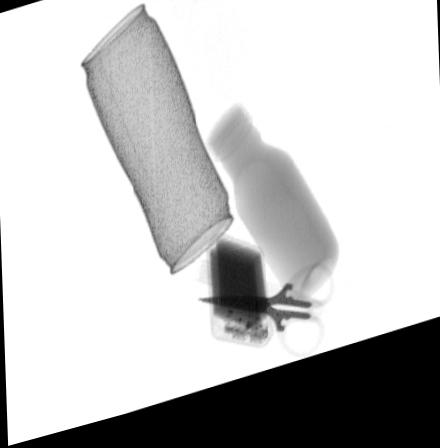Powerbank: (203, 239, 276, 361)
Scissors: (194, 278, 336, 372)
